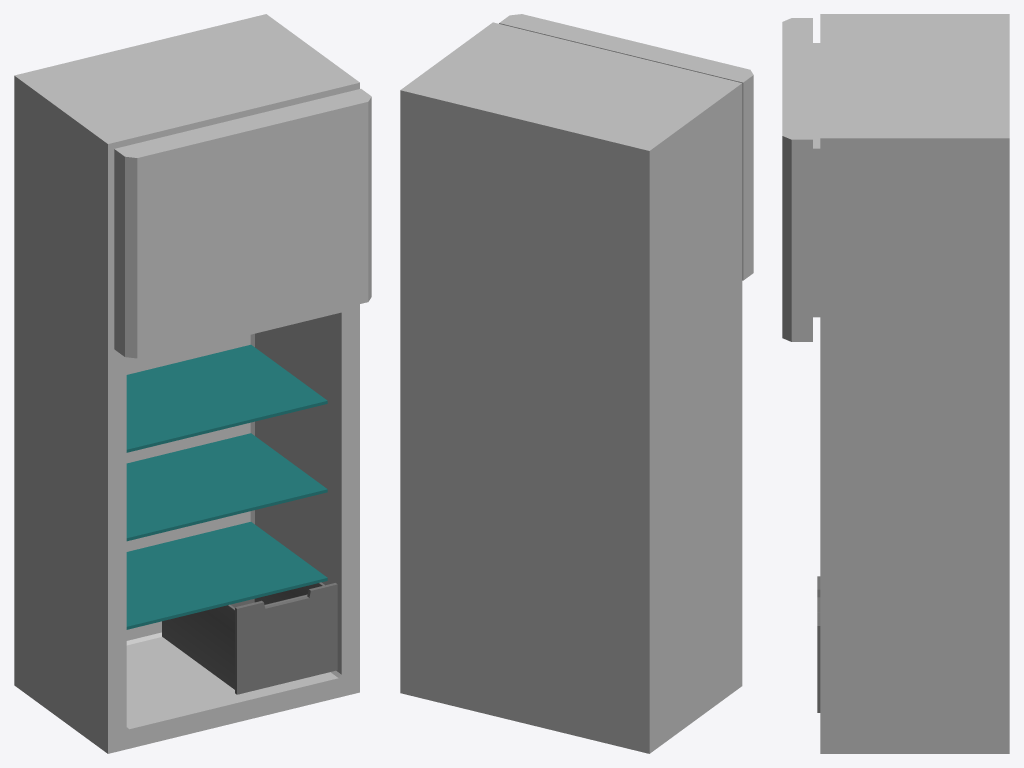
File: Frigo.fbx
3 renders of one model, left to right at view 1: azimuth 30°, elevation 25°; view 2: azimuth 150°, elevation 25°; view 3: azimuth 270°, elevation 25°, orthographic. The views are drawn at different scales.
Parts seen in each view (by area): view 1: Box018; view 2: Box018; view 3: Box018.
Part boxes in pixels (<box>): Box018: <box>14,14,371,753</box>; Box018: <box>400,14,753,753</box>; Box018: <box>782,14,1009,753</box>.
Size of the model in its own units: 79.35 by 183 by 61.36.
